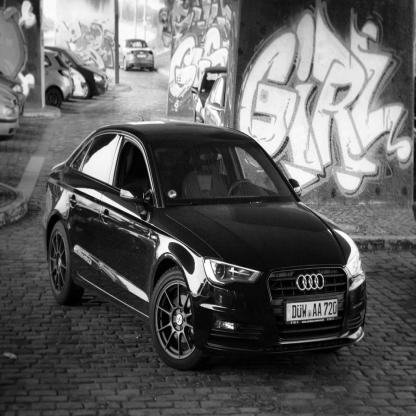Car: (42, 119, 369, 373), (44, 47, 109, 101), (45, 53, 89, 100), (42, 54, 74, 111), (119, 41, 157, 74), (1, 77, 27, 120), (1, 88, 20, 138)
